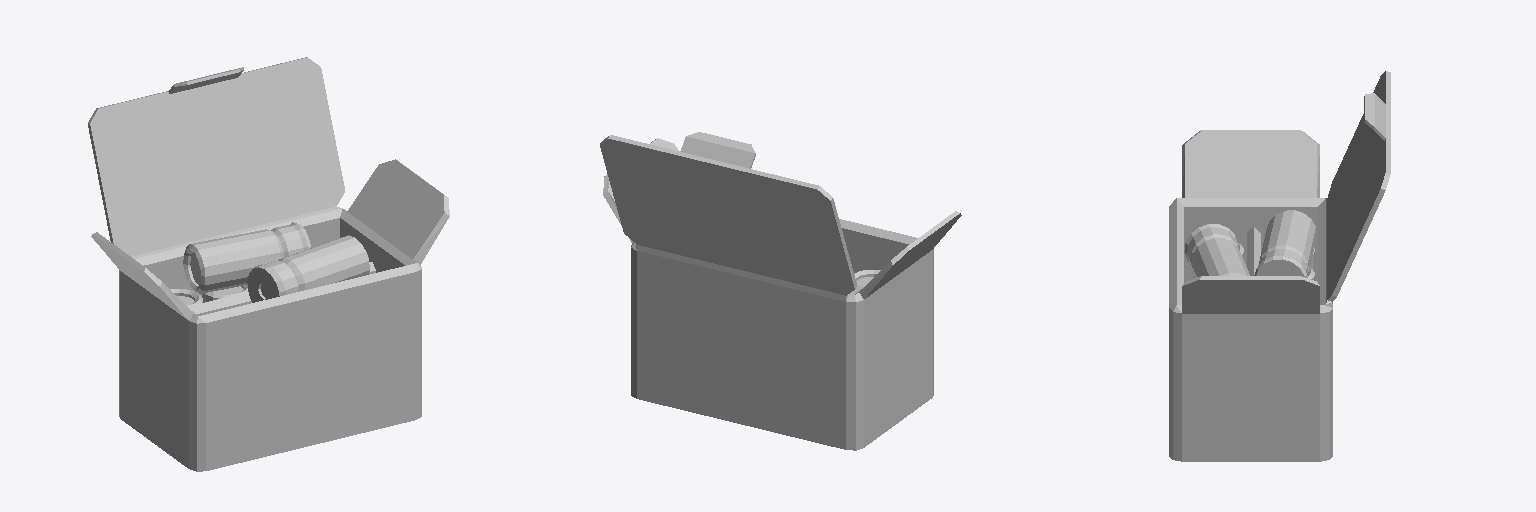
File: shotgun_ammo_2.obj
3 renders of one model, left to right at view 1: azimuth 30°, elevation 25°; view 2: azimuth 150°, elevation 25°; view 3: azimuth 270°, elevation 25°, orthographic.
Visible parts, largest first — view 1: shotgun_ammo_2; view 2: shotgun_ammo_2; view 3: shotgun_ammo_2.
Boxes of the visible parts, x1=… form: shotgun_ammo_2: x1=88, y1=57, x2=449, y2=471; shotgun_ammo_2: x1=600, y1=132, x2=961, y2=450; shotgun_ammo_2: x1=1169, y1=71, x2=1390, y2=461.
Bounding box in the file's own units: 0.2486 × 0.2328 × 0.1565.